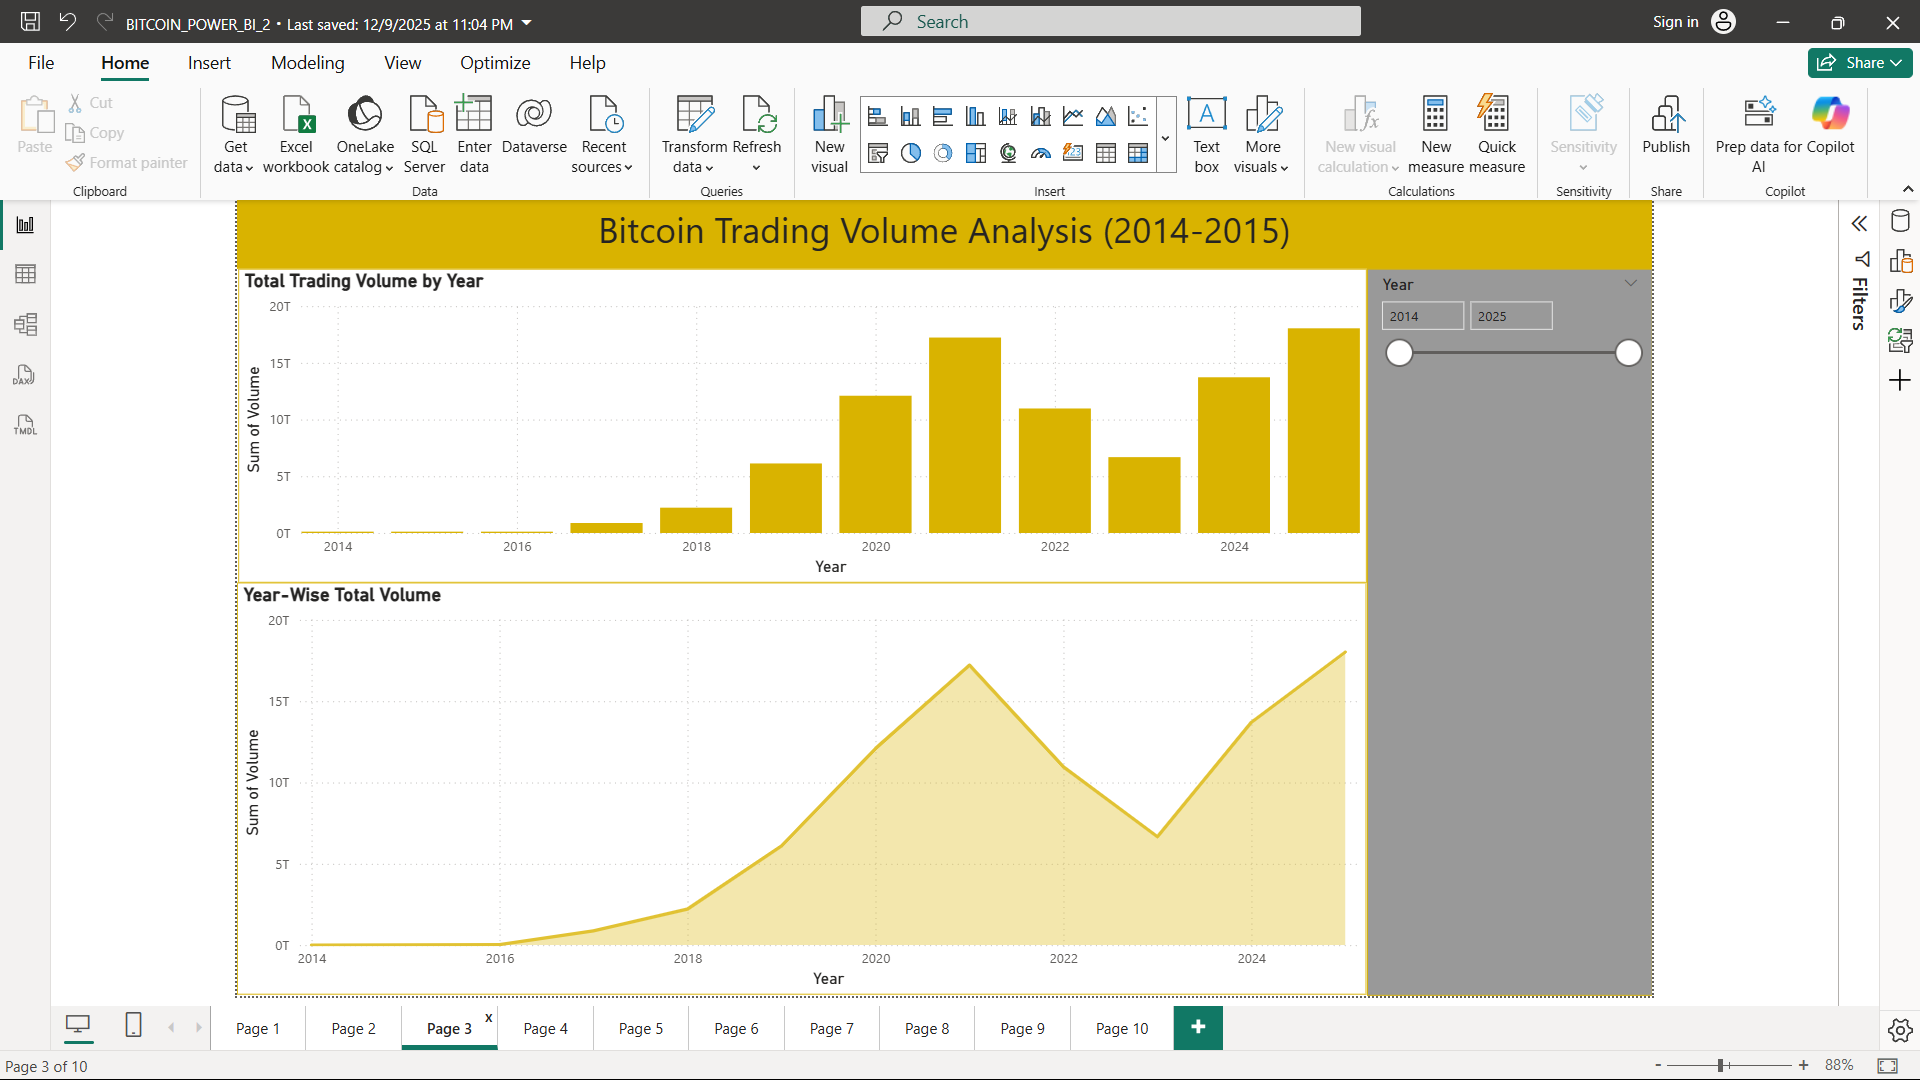

What the dashboard file says about the page in this screenshot:
{"tool":"powerbi","page":{"name":"Page 3","canvas":[1280,720],"ordinal":2},"visuals":[{"type":"textbox","box":[0,0,1280,62.2],"z":0},{"type":"areaChart","title":"Year-Wise Total Volume","fields":{"Y":["Sum(bitcoin_data_2014_to_2025.Volume)"],"Category":["bitcoin_data_2014_to_2025.Year"]},"box":[0,346.3,1022,373.2],"z":1000},{"type":"columnChart","title":"Total Trading Volume by Year","fields":{"Category":["bitcoin_data_2014_to_2025.Year"],"Y":["Sum(bitcoin_data_2014_to_2025.Volume)"]},"box":[1.2,62.2,1020.7,284.1],"z":2000},{"type":"slicer","fields":{"Values":["bitcoin_data_2014_to_2025.Year"]},"box":[1022,62.2,258.5,657.3],"z":3000}]}

Visuals, with their boxes on the page's 1280x720 design canvas (x1, y1, x2, y2). These are canvas units, not pixel positions in the 1920x1080 screenshot, which may show the page scaled, cropped or inside an application window:
textbox: (left=0, top=0, right=1280, bottom=62)
"Year-Wise Total Volume" areaChart: (left=0, top=346, right=1022, bottom=720)
"Total Trading Volume by Year" columnChart: (left=1, top=62, right=1022, bottom=346)
slicer - bitcoin_data_2014_to_2025.Year: (left=1022, top=62, right=1280, bottom=720)
